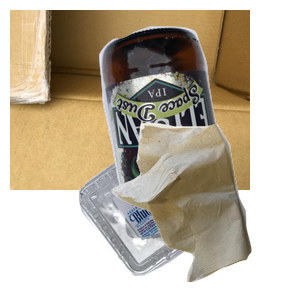cardboard: (10, 10, 250, 190)
glass: (97, 24, 300, 204)
plastic: (77, 133, 289, 300)
trash: (109, 120, 300, 300)
